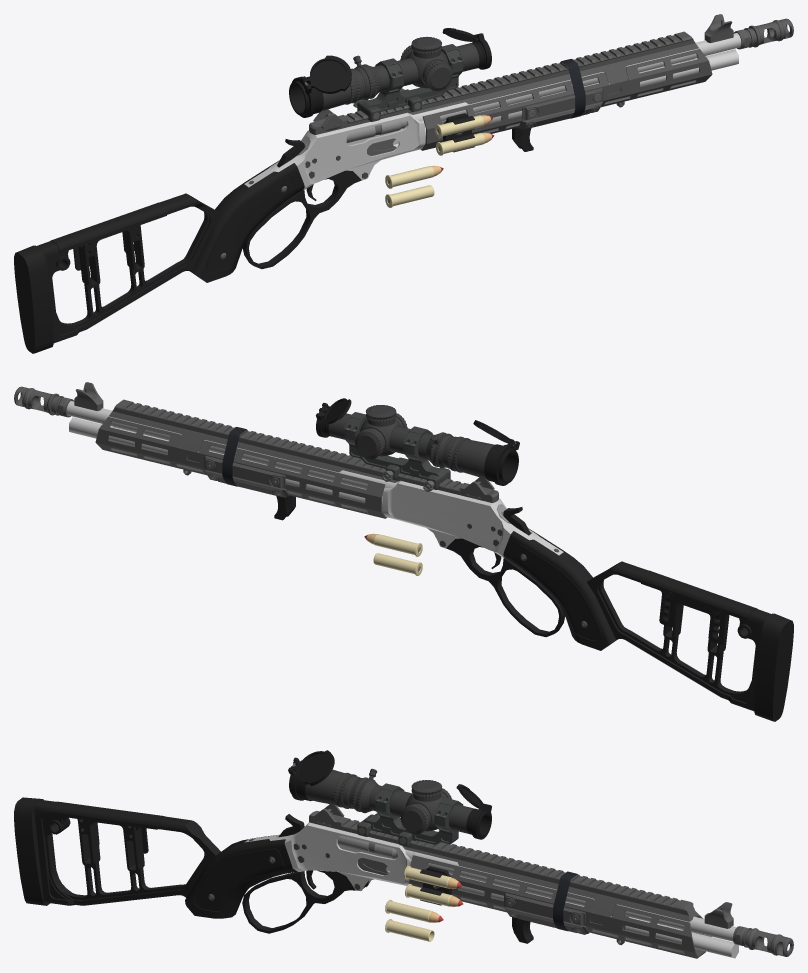
The model's file is marlin1895midwest1.glb.
3 views of the same model, one above another, from view 1: azimuth 30°, elevation 25°; view 2: azimuth 150°, elevation 25°; view 3: azimuth 330°, elevation 25° (orthographic).
Parts seen in each view (by area): view 1: midwestmarlinstock, marlinbase, midwesttop, midwestmlokhandguard, atacr, atacrcap, ordnancebadgermount, lever, railscaleshtp, muzzle, bolt, 4570 (+5 smaller); view 2: midwestmarlinstock, marlinbase, midwestmlokhandguard, midwesttop, atacr, ordnancebadgermount, atacrcap, lever, railscaleshtp, muzzle, 4570, band (+2 smaller); view 3: midwestmarlinstock, marlinbase, midwesttop, midwestmlokhandguard, atacr, ordnancebadgermount, atacrcap, lever, railscaleshtp, muzzle, 4570, band (+8 smaller).
Part boxes in pixels (<box>): midwestmarlinstock: <box>14,160,304,353</box>; marlinbase: <box>244,33,741,189</box>; midwesttop: <box>309,31,698,134</box>; midwestmlokhandguard: <box>420,49,712,150</box>; atacr: <box>321,36,479,110</box>; atacrcap: <box>289,28,491,117</box>; ordnancebadgermount: <box>353,44,463,121</box>; lever: <box>242,170,361,269</box>; railscaleshtp: <box>518,88,603,129</box>; muzzle: <box>733,18,793,49</box>; bolt: <box>298,119,406,154</box>; 4570: <box>385,165,443,188</box>; midwestmarlinstock: <box>503,528,793,721</box>; marlinbase: <box>66,401,563,557</box>; midwestmlokhandguard: <box>95,417,387,518</box>; midwesttop: <box>109,399,498,502</box>; atacr: <box>328,405,494,478</box>; ordnancebadgermount: <box>344,412,450,491</box>; atacrcap: <box>316,398,519,485</box>; lever: <box>446,538,565,637</box>; railscaleshtp: <box>204,456,289,497</box>; muzzle: <box>14,386,74,417</box>; 4570: <box>364,533,422,556</box>; band: <box>222,427,246,486</box>; midwestmarlinstock: <box>14,797,297,918</box>; marlinbase: <box>244,822,738,958</box>; midwesttop: <box>309,811,698,921</box>; midwestmlokhandguard: <box>409,855,711,958</box>; atacr: <box>305,769,474,834</box>; ordnancebadgermount: <box>357,783,463,846</box>; atacrcap: <box>288,750,491,839</box>; lever: <box>242,870,368,933</box>; railscaleshtp: <box>504,893,589,934</box>; muzzle: <box>733,926,793,956</box>; 4570: <box>385,899,443,922</box>; band: <box>553,871,577,931</box>.
Size of the model in its own units: 8.47 by 2.36 by 0.6319.
